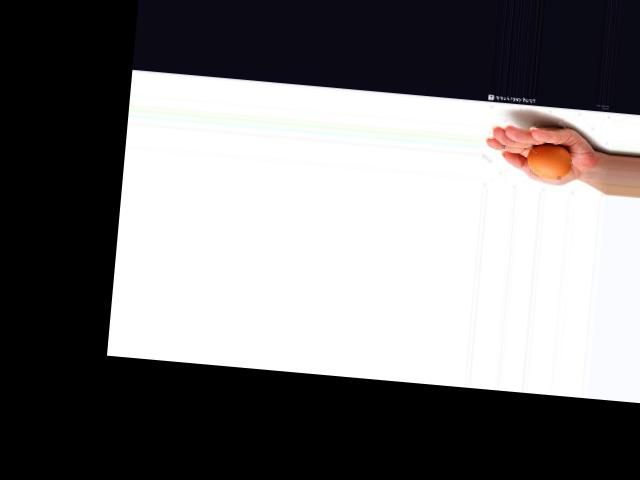egg: (526, 142, 574, 181)
